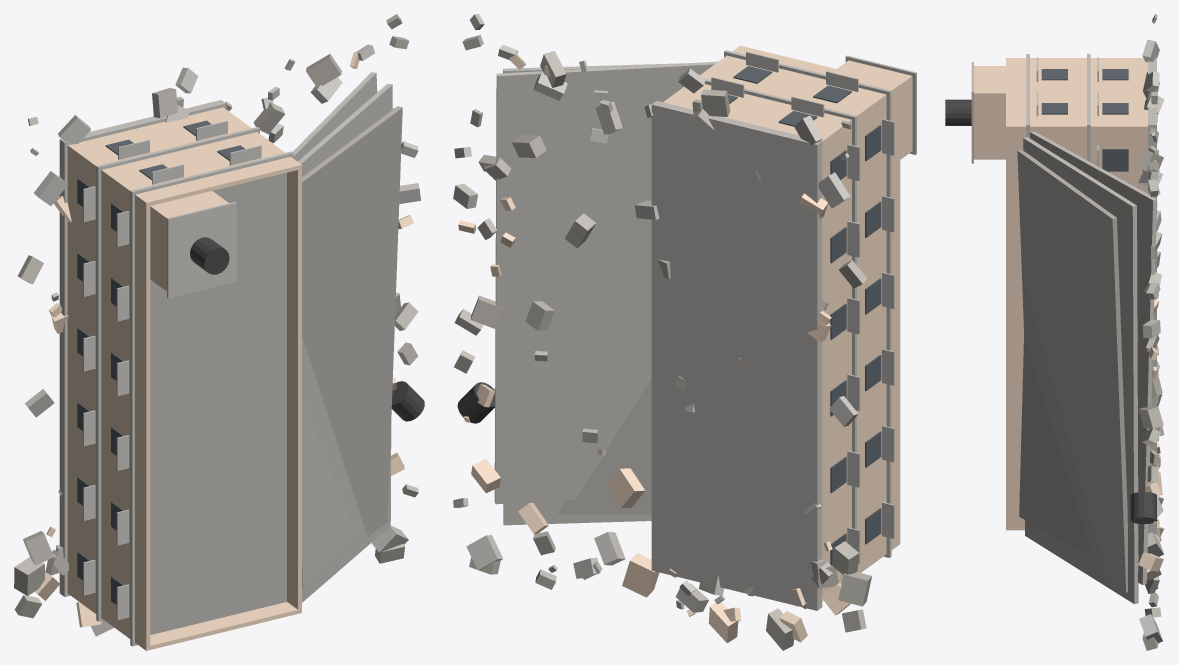
Rendered from collapsed_slumped_4f.glb.
The picture shows the model from 3 angles, left to right: view 1: azimuth 30°, elevation 25°; view 2: azimuth 150°, elevation 25°; view 3: azimuth 270°, elevation 25°; orthographic projection. The views are drawn at different scales.
Visible parts, largest first — view 1: roof, peach, concrete, rubble, glass, tank; view 2: concrete, peach, rubble, glass, roof, tank; view 3: concrete, roof, peach, rubble, glass, tank.
Boxes of the visible parts, x1,y1,x2,y2 form: roof: [150, 106, 402, 634]; peach: [35, 52, 413, 650]; concrete: [25, 44, 420, 646]; rubble: [14, 14, 418, 636]; glass: [77, 120, 244, 604]; tank: [190, 237, 424, 421]; concrete: [453, 44, 916, 610]; peach: [458, 45, 912, 643]; rubble: [453, 14, 871, 650]; glass: [728, 66, 881, 565]; roof: [558, 378, 651, 514]; tank: [457, 382, 494, 423]; concrete: [971, 39, 1163, 642]; roof: [1017, 149, 1127, 592]; peach: [974, 58, 1163, 580]; rubble: [1137, 14, 1164, 650]; glass: [1041, 69, 1128, 171]; tank: [945, 99, 1156, 524].
Size of the model in its own units: 20.81 by 27.21 by 10.83.
